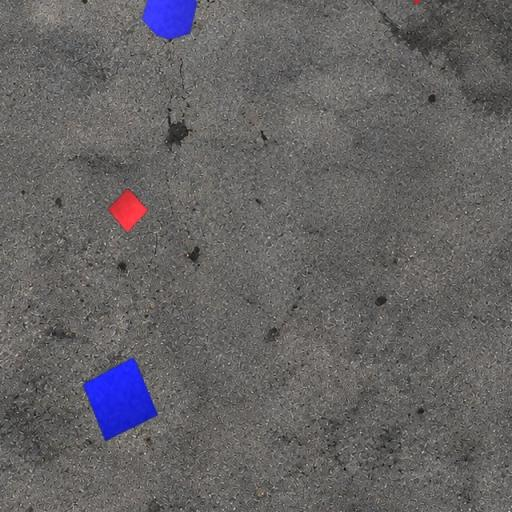BLUE_SQUARE: (82, 356, 159, 442)
RED_SQUARE: (106, 188, 149, 234)
